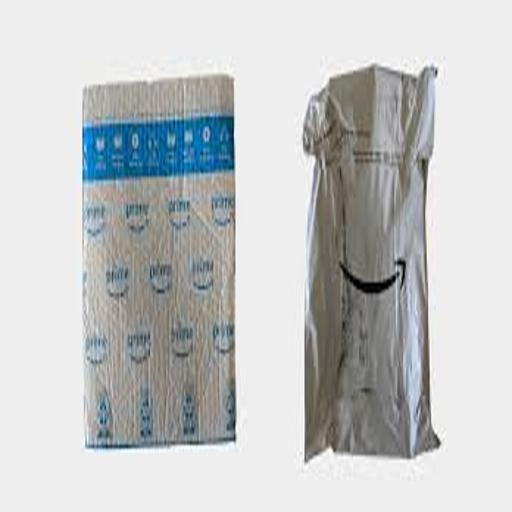Amazon: (79, 70, 242, 453), (296, 57, 445, 468)
